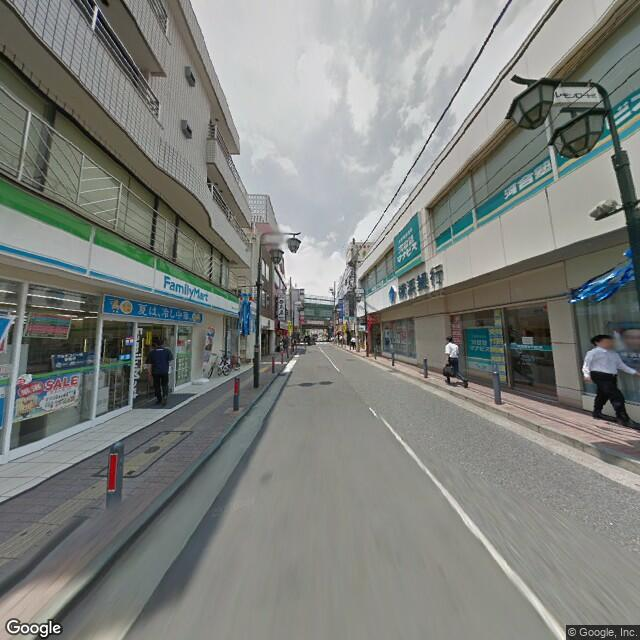family_mart: (2, 177, 240, 318), (160, 271, 210, 306)
